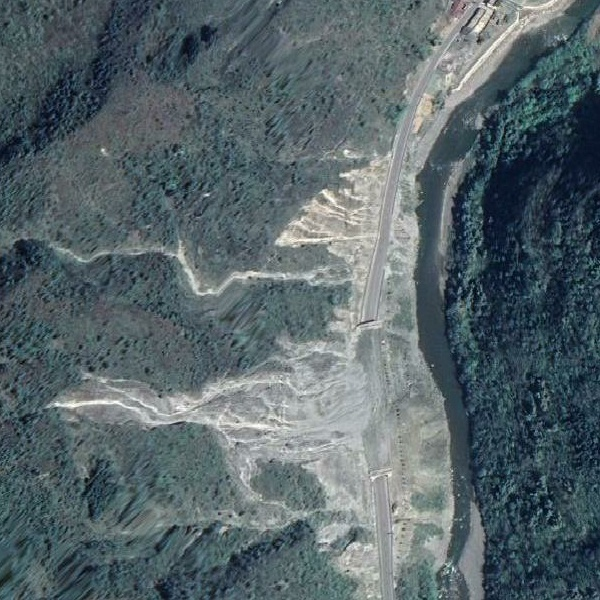slope: (51, 304, 380, 599), (271, 151, 391, 295)
